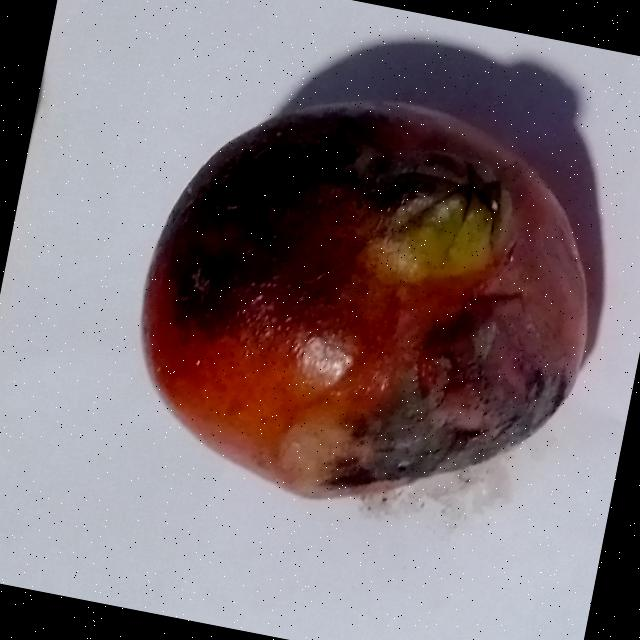Rotten: (100, 55, 630, 548)
